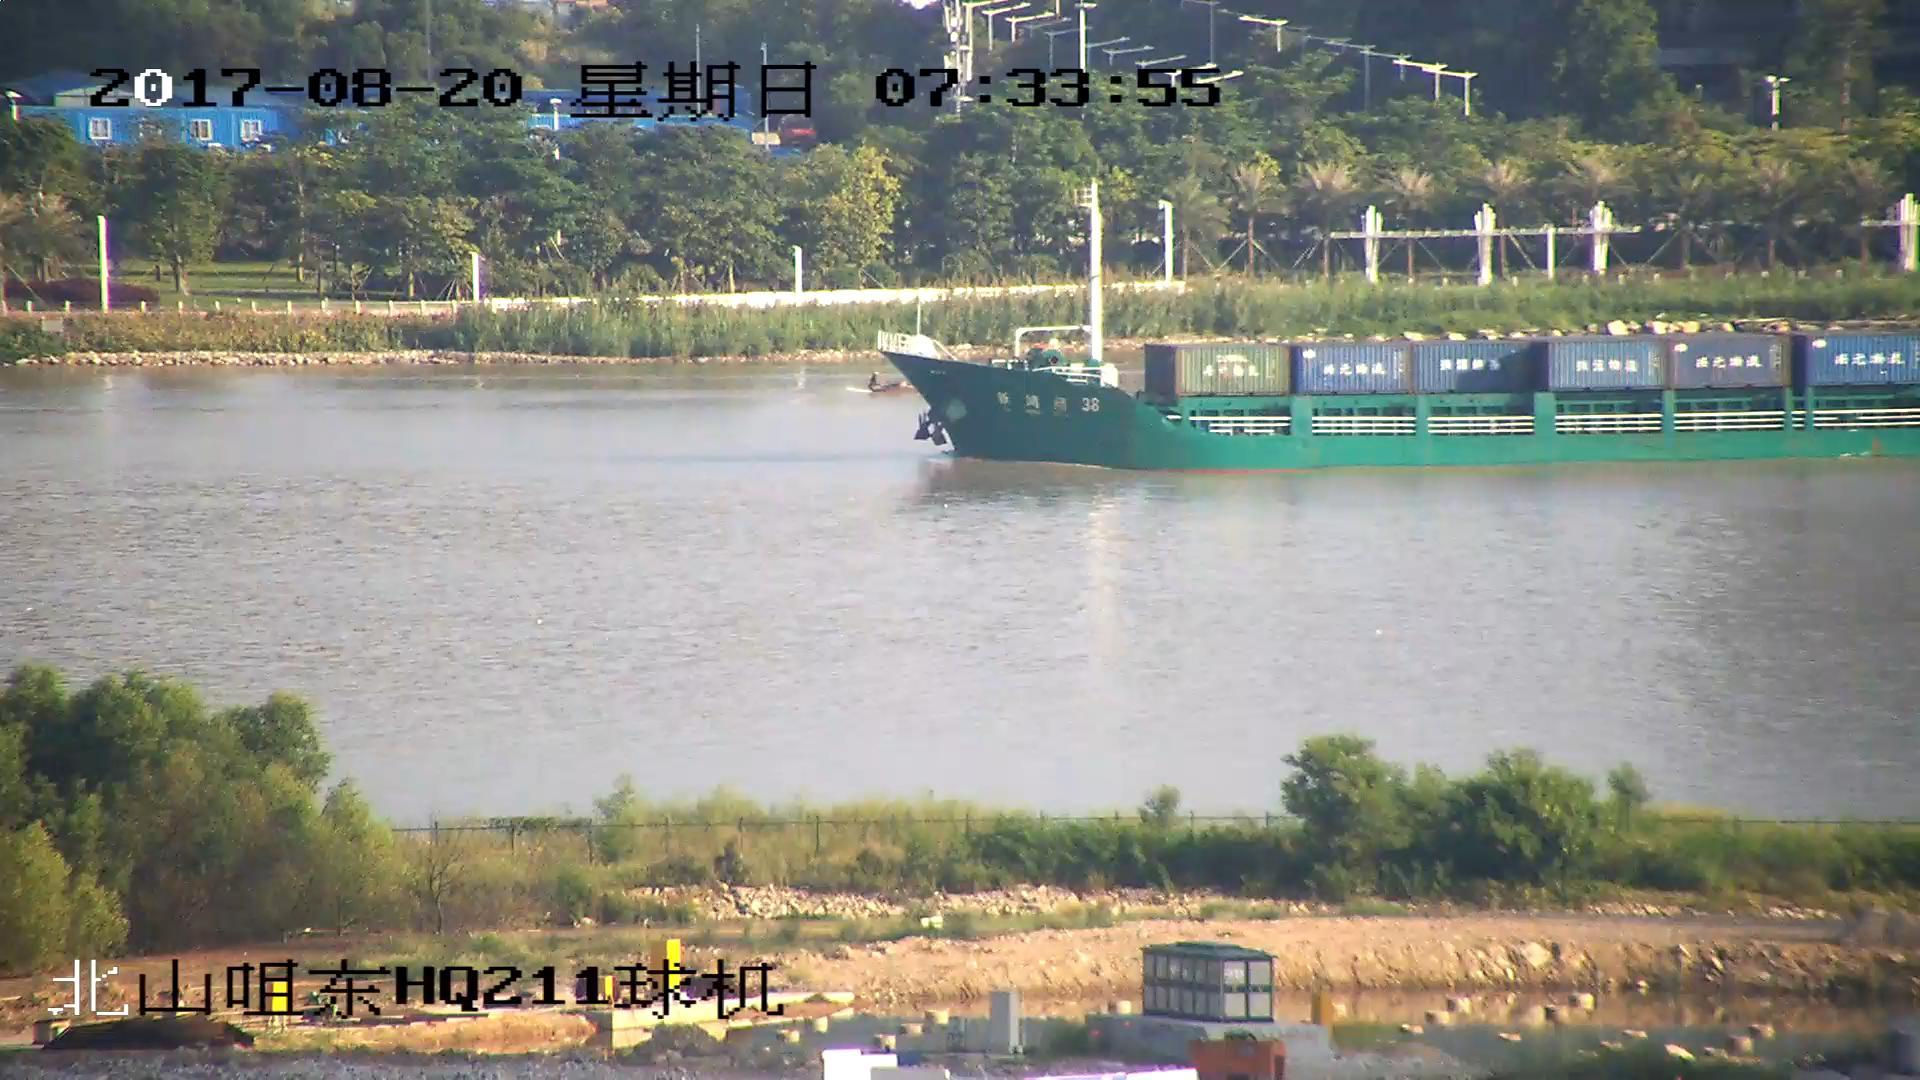Ship: (876, 191, 1920, 479)
